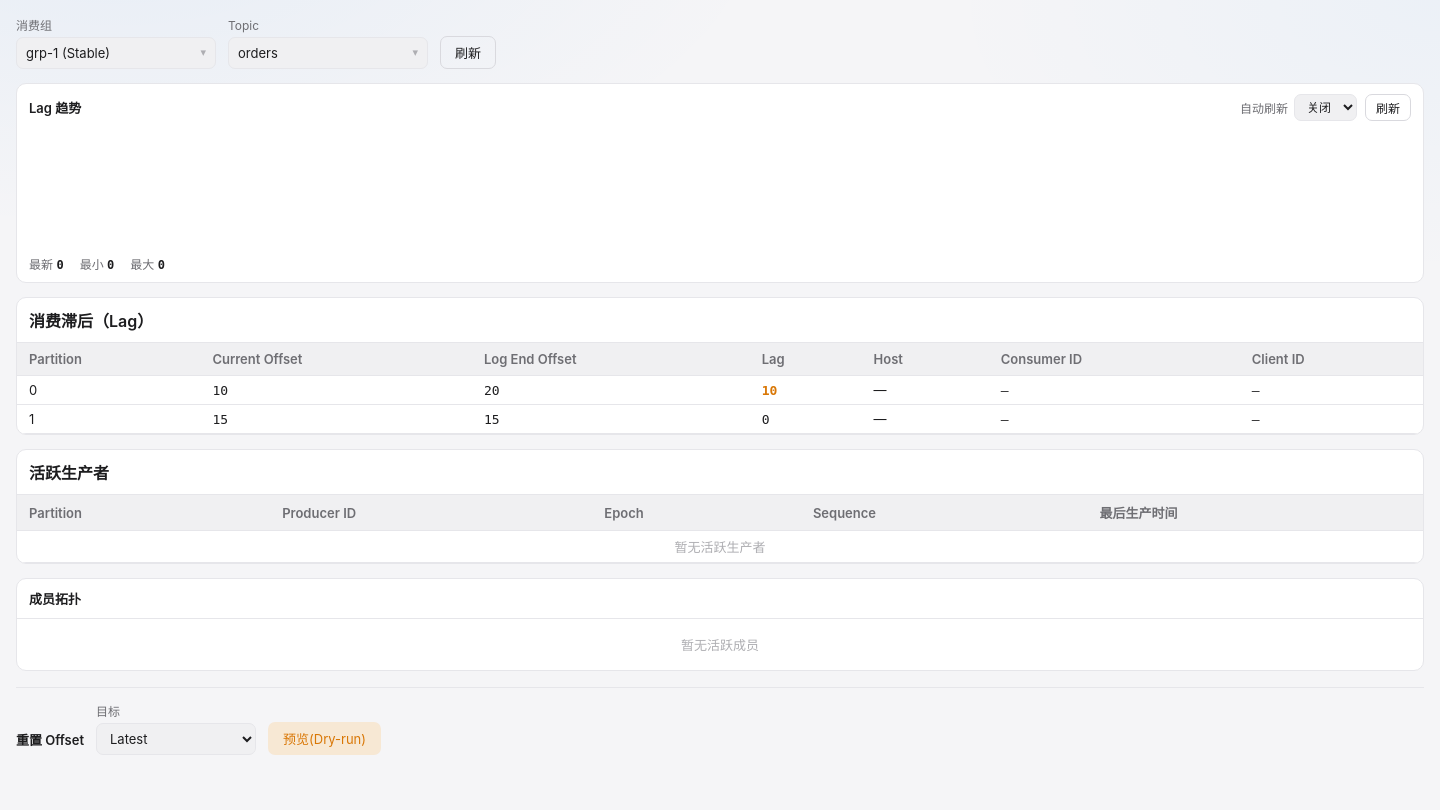
ConsumerGroupView › refreshes lag data when building the dry-run preview
The image size is (1440, 810).
Expected: the number of rows with test id "lag-row" is 2, [17, 376, 1423, 405]; [17, 405, 1423, 434]
Click the button with test id "btn-dry-run" at point(324, 739), box [268, 722, 381, 755]
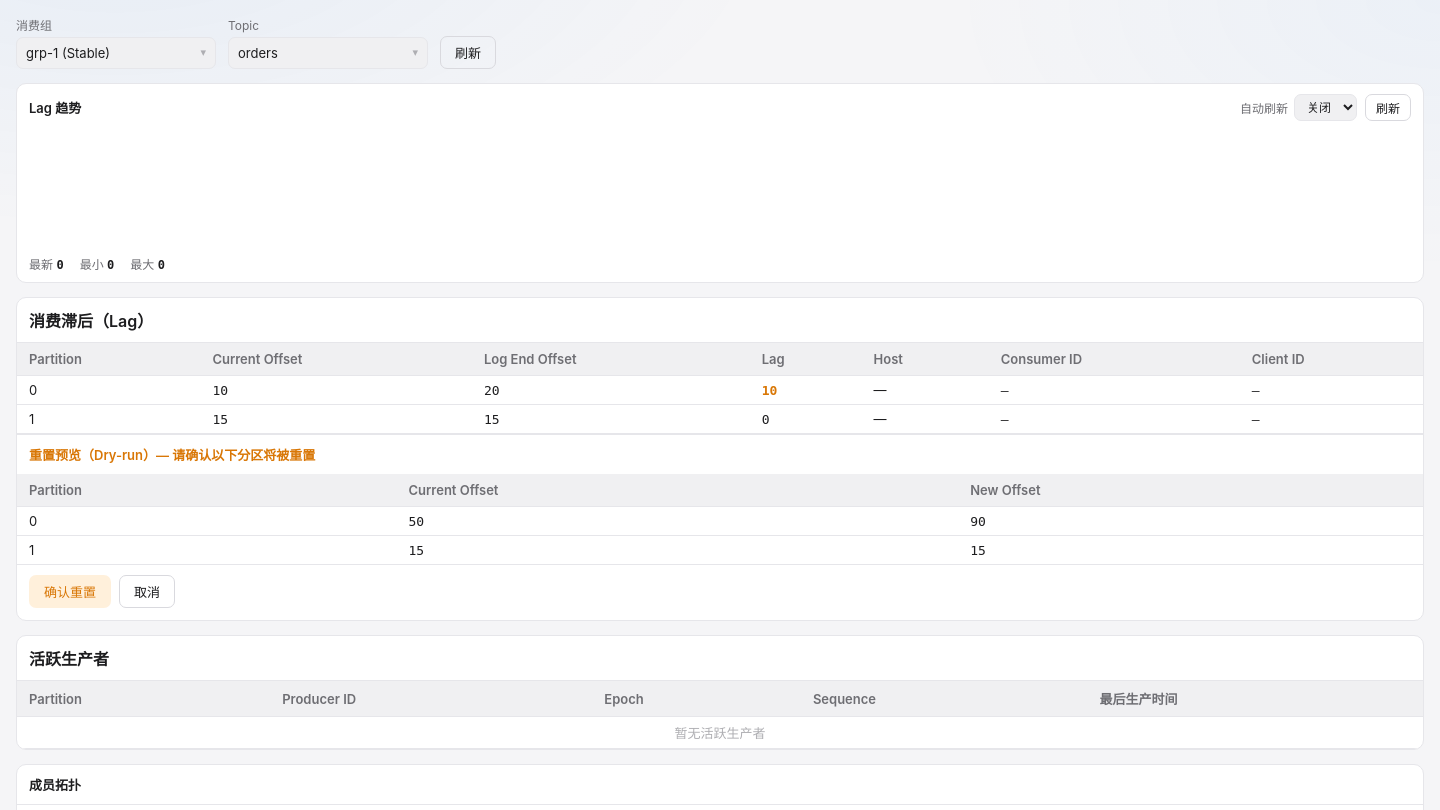
Result: the number of rows with test id "dry-run-row" is 2 at [17, 507, 1423, 536]; [17, 536, 1423, 565]
Result: the row with test id "dry-run-row" shows "50" at [408, 514, 424, 529]
Result: the cell with test id "dry-run-new-offset" reads "90" at [970, 514, 986, 529]
